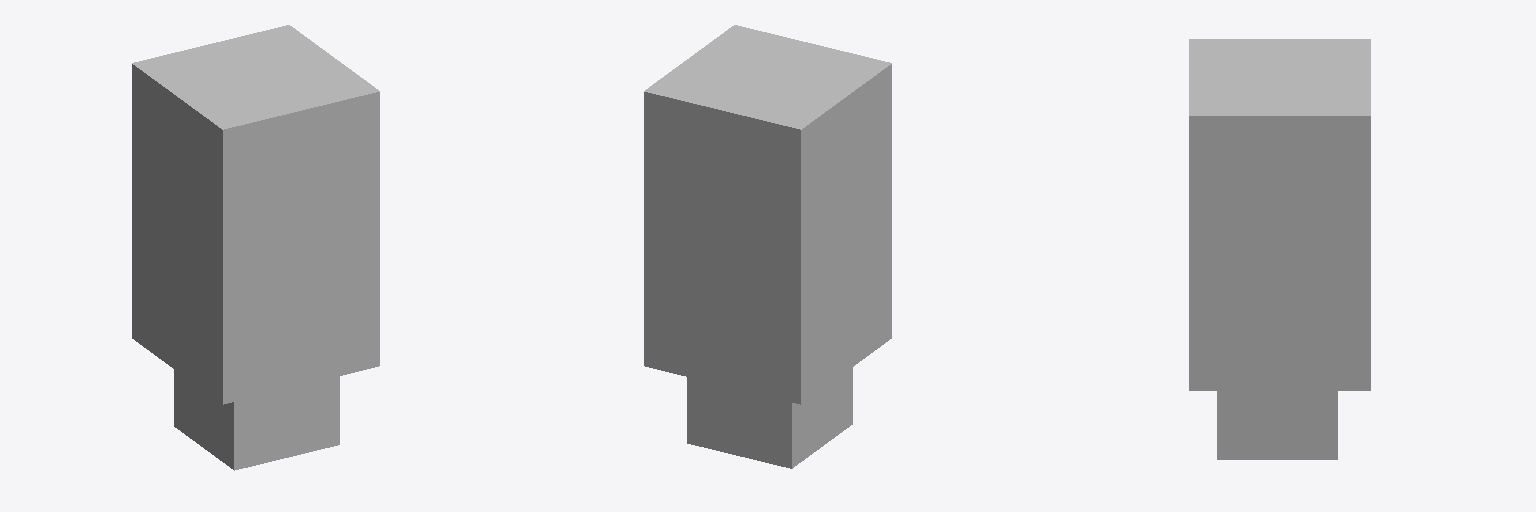
The model's file is TreeBig.obj.
The picture shows the model from 3 angles: view 1: azimuth 30°, elevation 25°; view 2: azimuth 150°, elevation 25°; view 3: azimuth 270°, elevation 25°; orthographic projection.
Parts seen in each view (by area): view 1: Object006; view 2: Object006; view 3: Object006.
Part boxes in pixels (left/top/right/bottom): Object006: left=132, top=25, right=379, bottom=470; Object006: left=644, top=25, right=891, bottom=468; Object006: left=1189, top=39, right=1370, bottom=459.
Bounding box in the file's own units: 3 × 6.5 × 3.